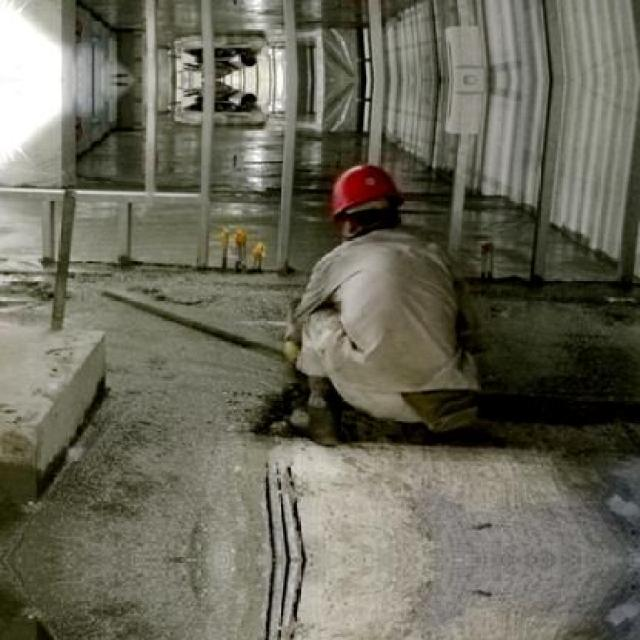helmet: (323, 155, 406, 248)
